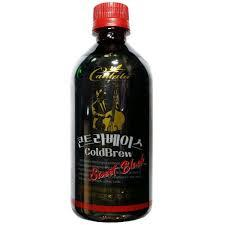contrabass_sweetblack: (58, 3, 167, 224)
